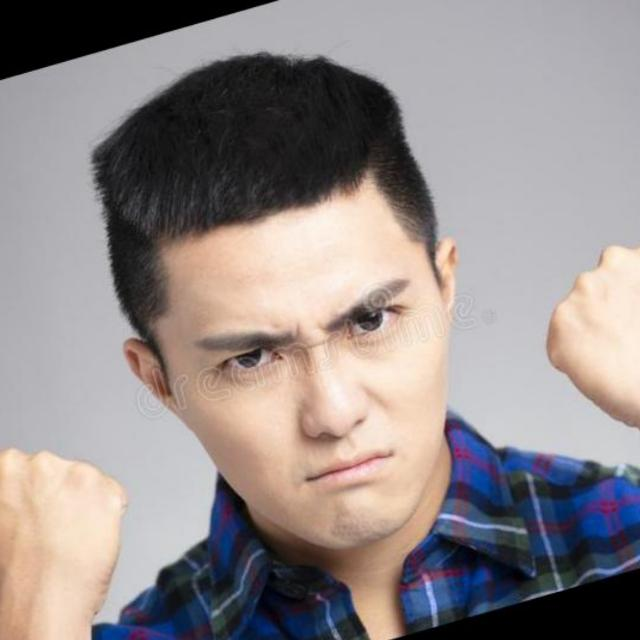Angry: (68, 66, 564, 623)
